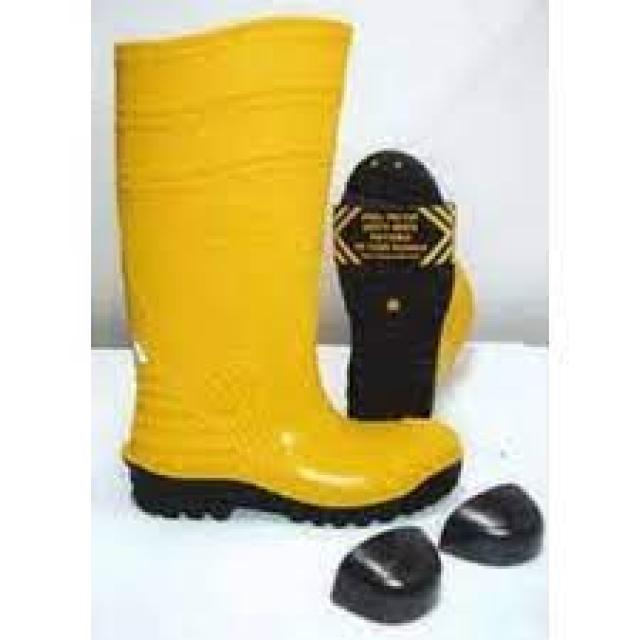shoes: (118, 16, 462, 523)
